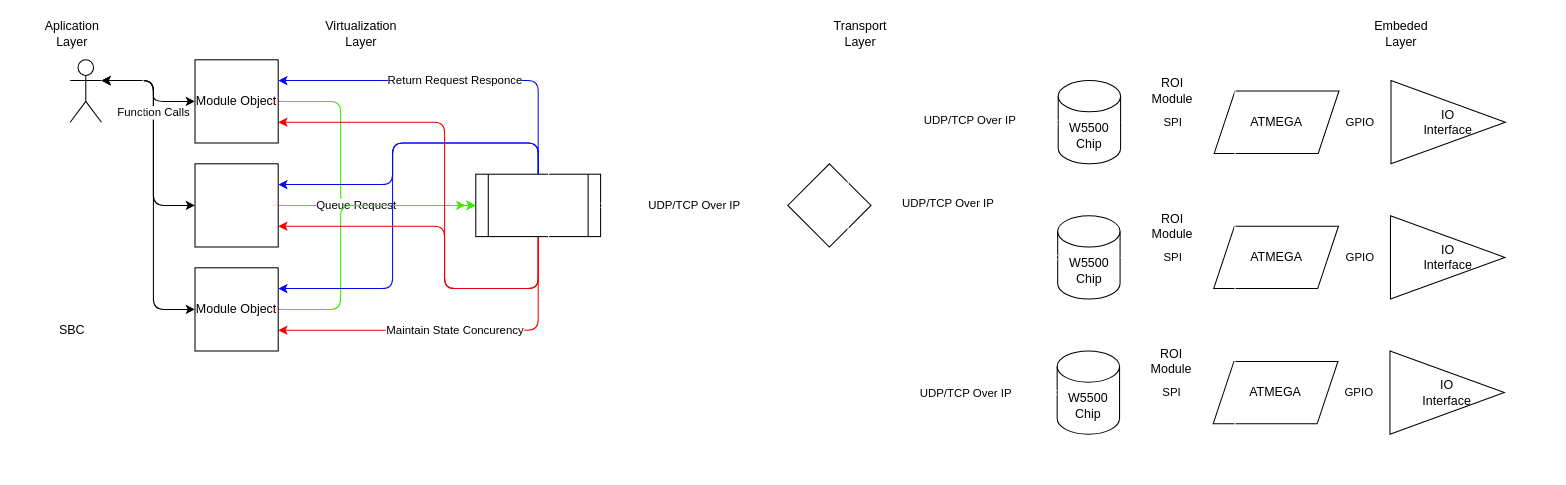
Image size: 1566x485. Some labels were removed from this diagram. The centre of each missing label's shape, as x and y in pixels:
IE Virtual GPIO Module: the point at 236,205
Network Hub: the point at 829,205
Transport Agent: the point at 538,205
